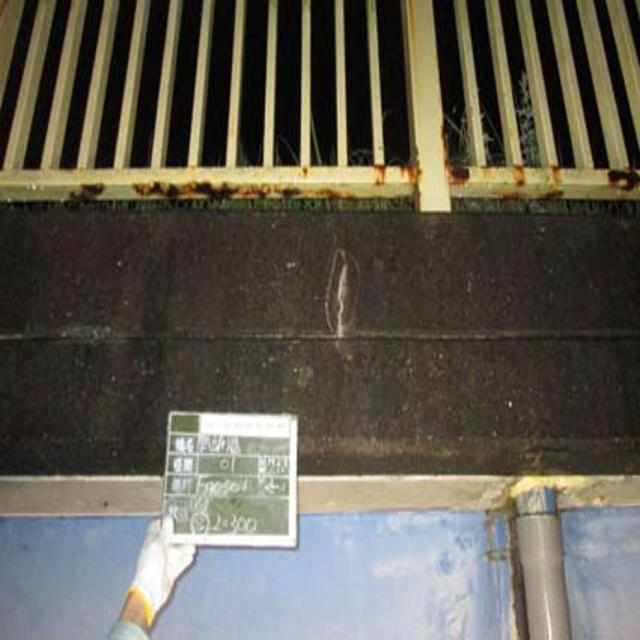corrosion: (80, 164, 640, 213)
